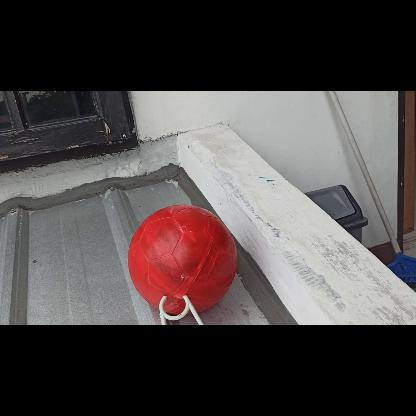red_ball: (127, 204, 236, 314)
